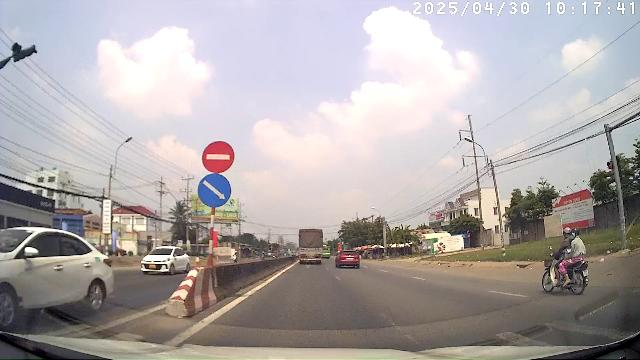102-cam-di-nguoc-chieu: (202, 140, 235, 173)
302a-huong-phai-di-vong-chuong-ngai-vat-1: (198, 173, 232, 208)
